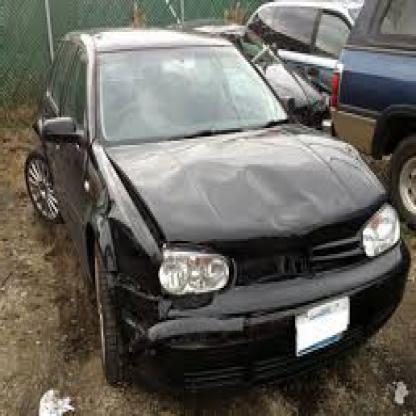dent: (238, 157, 317, 214), (108, 216, 152, 290)
